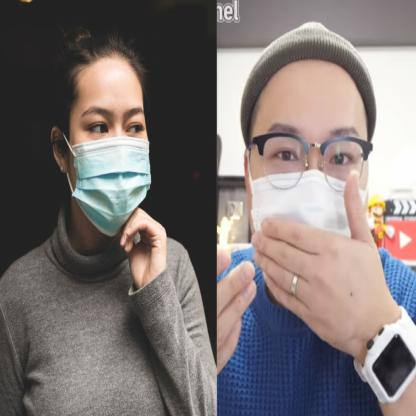Wearing_Mask: (247, 119, 370, 262), (69, 104, 151, 240)
